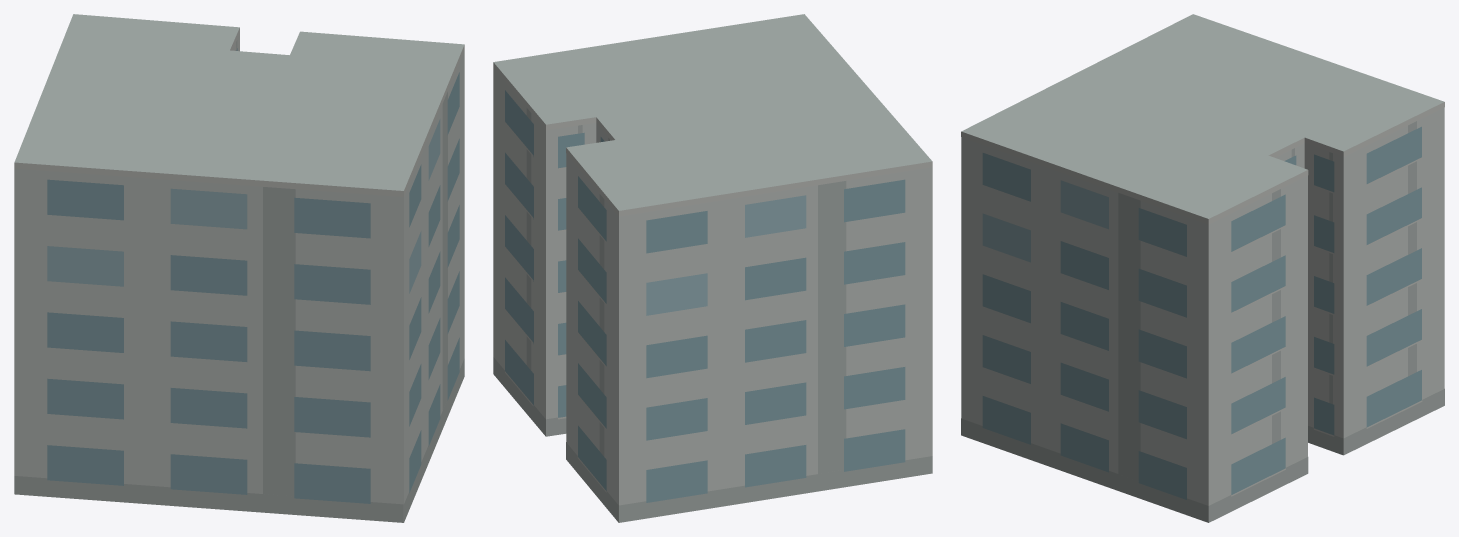
Rendered from survey-upis-32888575.glb.
3 views of the same model, side by side, from view 1: azimuth 30°, elevation 25°; view 2: azimuth 150°, elevation 25°; view 3: azimuth 270°, elevation 25° (orthographic). The views are drawn at different scales.
Parts seen in each view (by area): view 1: survey-upis-32888575.tmp; view 2: survey-upis-32888575.tmp; view 3: survey-upis-32888575.tmp.
Part boxes in pixels (x1=…): survey-upis-32888575.tmp: x1=14, y1=14, x2=464, y2=522; survey-upis-32888575.tmp: x1=493, y1=14, x2=932, y2=522; survey-upis-32888575.tmp: x1=961, y1=14, x2=1444, y2=522.
Bounding box in the file's own units: 19.18 × 13.25 × 19.11.
